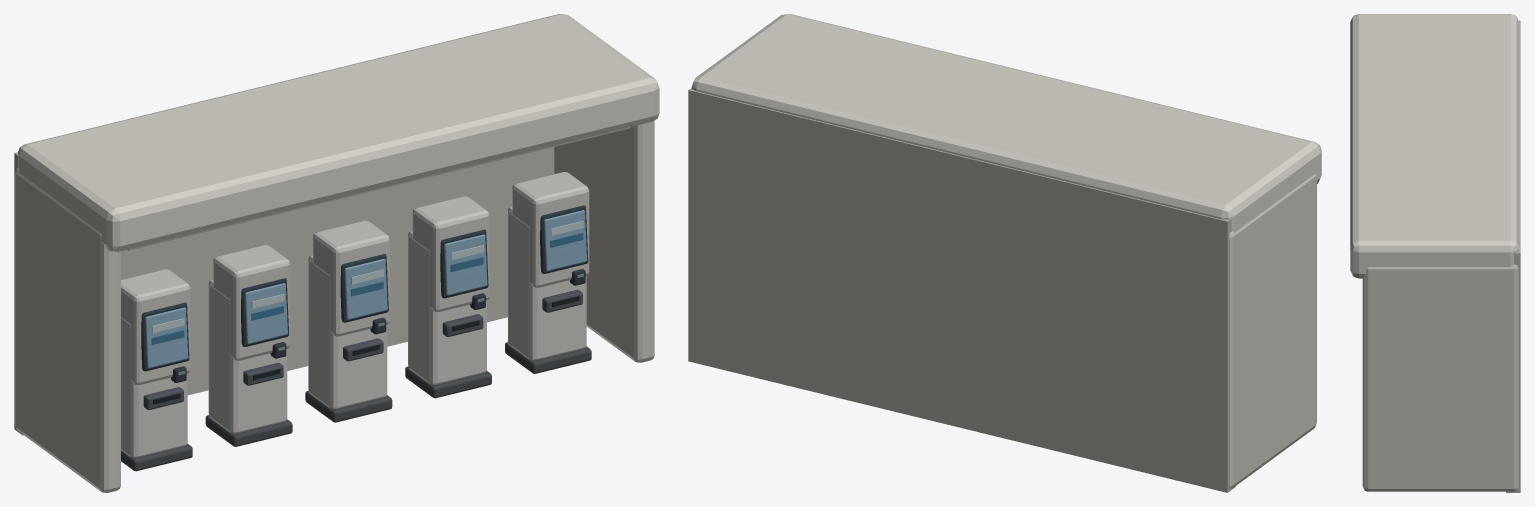
The model's file is Tickets.glb.
3 views of the same model, side by side, from view 1: azimuth 30°, elevation 25°; view 2: azimuth 150°, elevation 25°; view 3: azimuth 270°, elevation 25° (orthographic). The views are drawn at different scales.
Parts seen in each view (by area): view 1: Tickets; view 2: Tickets; view 3: Tickets.
Boxes of the visible parts, x1,y1,x2,y2 form: Tickets: [14, 14, 659, 492]; Tickets: [688, 14, 1321, 492]; Tickets: [1350, 14, 1520, 492].
Bounding box in the file's own units: 6 × 2.97 × 1.84.
